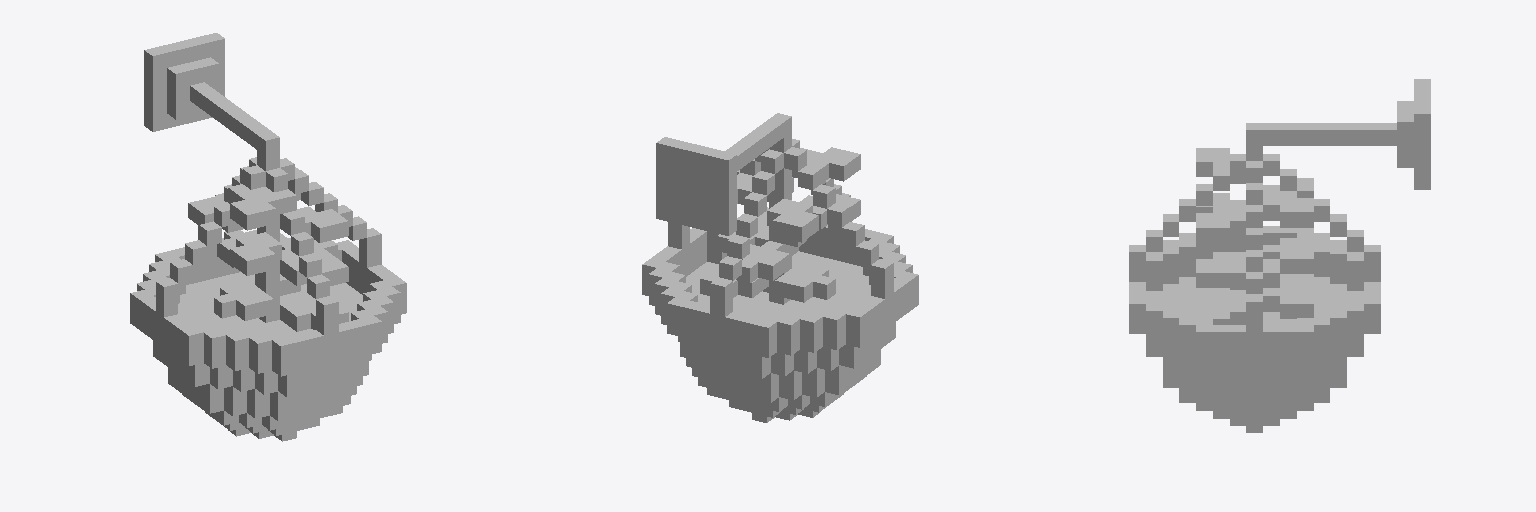
The model's file is Hanging Basket 3 - Leafy Plant.obj.
3 renders of one model, left to right at view 1: azimuth 30°, elevation 25°; view 2: azimuth 150°, elevation 25°; view 3: azimuth 270°, elevation 25°, orthographic.
Parts seen in each view (by area): view 1: Hanging Basket 3 - Leafy Plant; view 2: Hanging Basket 3 - Leafy Plant; view 3: Hanging Basket 3 - Leafy Plant.
Boxes of the visible parts, x1,y1,x2,y2 form: Hanging Basket 3 - Leafy Plant: [130, 33, 406, 441]; Hanging Basket 3 - Leafy Plant: [642, 113, 918, 422]; Hanging Basket 3 - Leafy Plant: [1129, 79, 1430, 432].
Size of the model in its own units: 15 by 21 by 18.